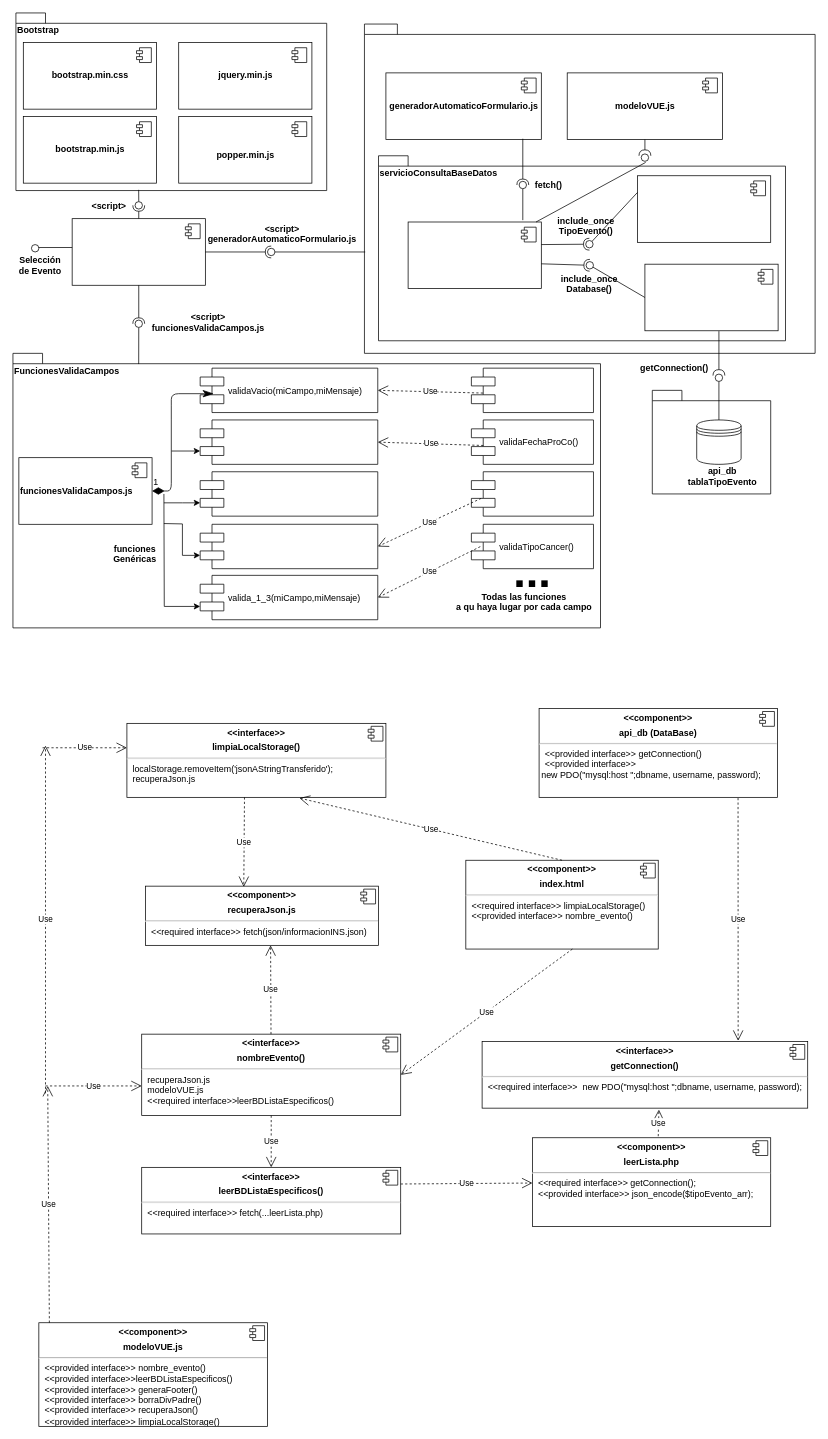
Some shapes in this 828 by 1439 pixel diagram are drawn without their labels. Each missing label, with the box of its shape:
database.php: (644, 263, 778, 331)
GeneradorAutomáticoDeFormularios: (364, 23, 815, 353)
index.html: (71, 218, 205, 285)
SGBD MySQL: (652, 390, 771, 494)
tipoEventoLista.php: (637, 175, 771, 242)
valida_1_2(miCampo,miMensaje): (199, 524, 378, 569)
valida_si_no(miCampo): (199, 471, 378, 516)
validaFechaSuperior(miCampo): (199, 419, 378, 464)
validaGradHisto(): (471, 367, 593, 413)
validaResultBiopsia(): (471, 471, 593, 516)
«servicio» leerLista.php: (407, 221, 541, 289)
